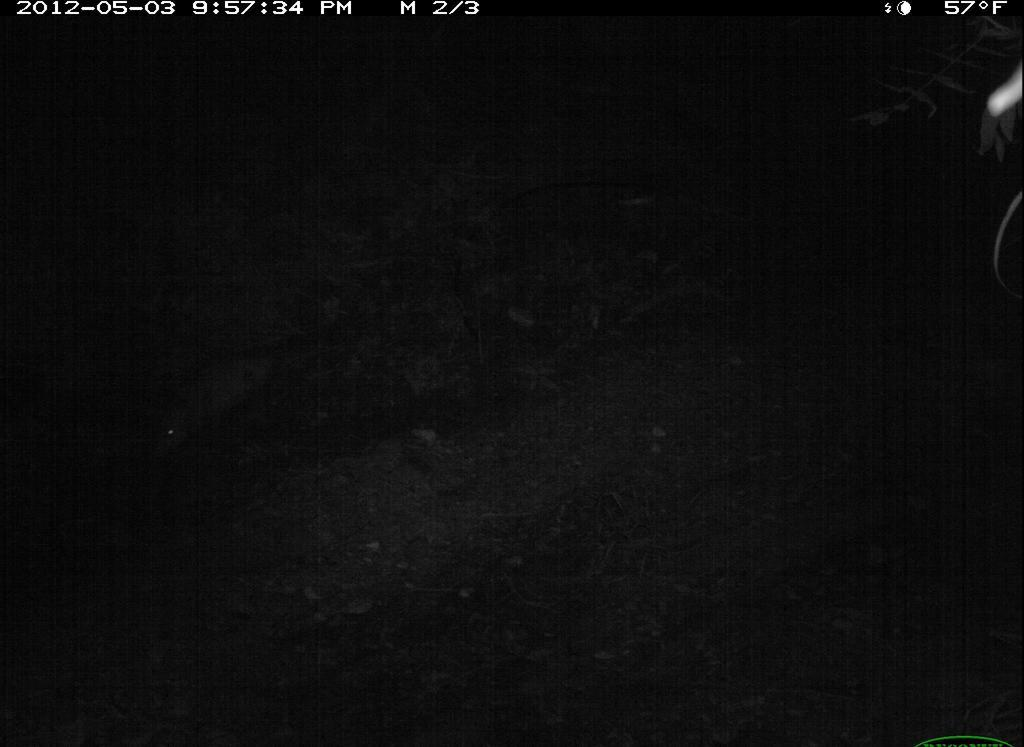opossum: (135, 317, 353, 475)
